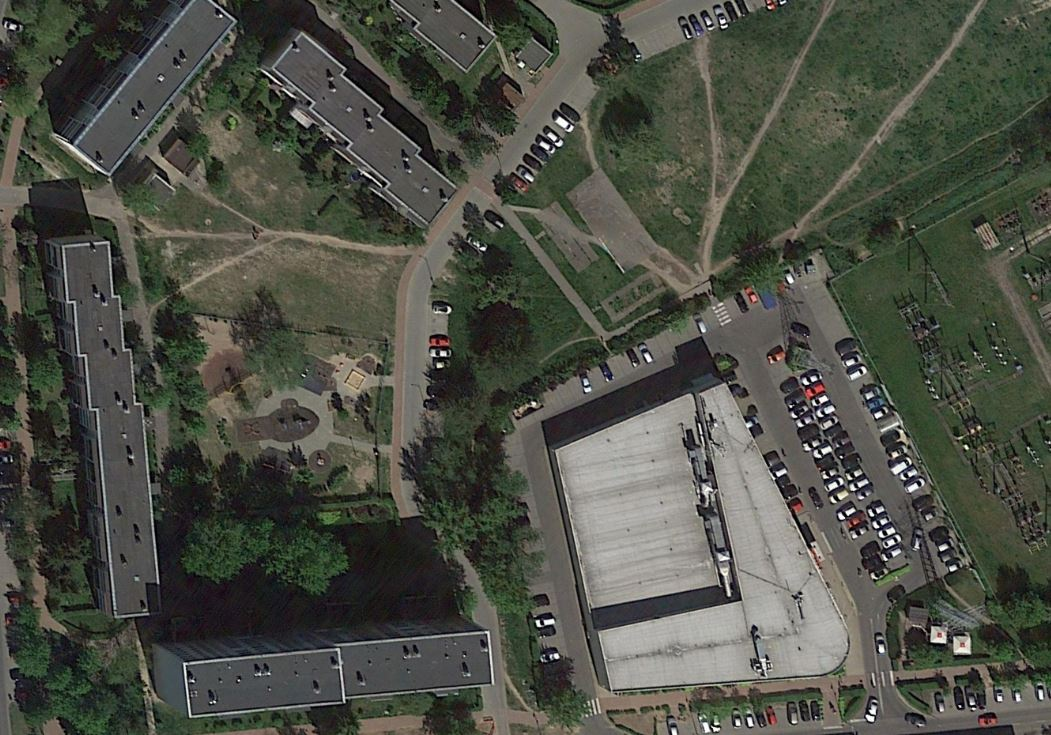block of flats: (34, 226, 167, 632), (135, 600, 510, 726), (254, 21, 464, 236), (45, 1, 251, 182), (377, 1, 498, 82)
shopping_center: (537, 360, 885, 697)
